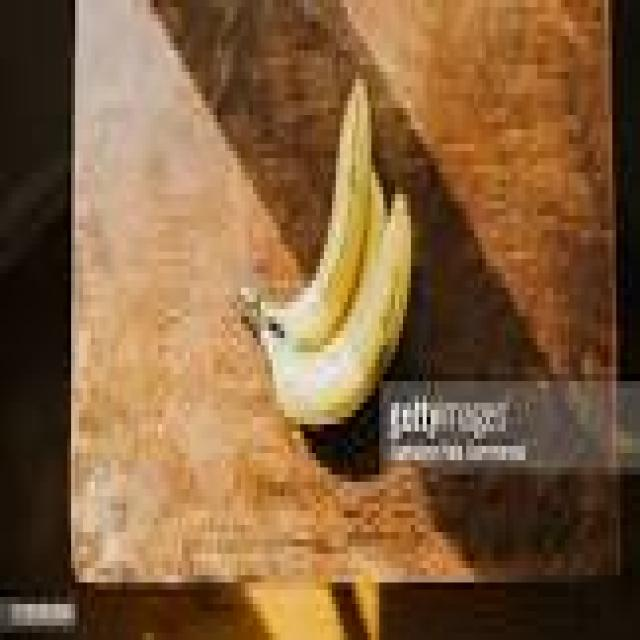banana: (241, 80, 371, 352), (261, 195, 410, 424)
